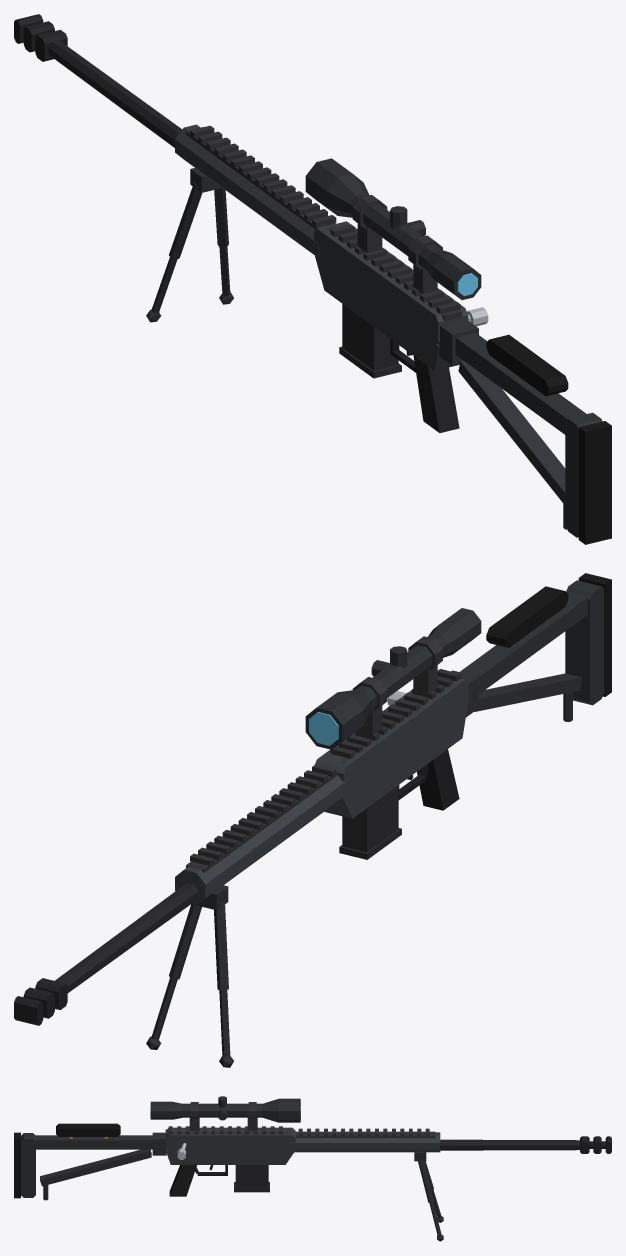
File: Raptor.glb
3 renders of one model, top to bottom at view 1: azimuth 30°, elevation 25°; view 2: azimuth 150°, elevation 25°; view 3: azimuth 270°, elevation 25°, orthographic. The views are drawn at different scales.
Visible parts, largest first — view 1: Stock, Body, Mount, Pad, Scope, Handguard, Bipod, Barrel, Magazine, Grip, Muzzle; view 2: Stock, Body, Mount, Scope, Handguard, Bipod, Pad, Barrel, Magazine, Muzzle, Grip, Lens; view 3: Body, Stock, Scope, Mount, Handguard, Barrel, Pad, Magazine, Bipod, Grip, Muzzle.
Boxes of the visible parts, left/top/right/bottom form: Stock: left=439, top=319, right=602, bottom=537; Body: left=314, top=221, right=468, bottom=370; Mount: left=186, top=125, right=462, bottom=321; Pad: left=486, top=334, right=611, bottom=544; Scope: left=305, top=158, right=481, bottom=299; Handguard: left=175, top=124, right=318, bottom=257; Bipod: left=146, top=168, right=567, bottom=529; Barrel: left=48, top=40, right=181, bottom=147; Magazine: left=339, top=304, right=401, bottom=378; Grip: left=413, top=356, right=459, bottom=432; Muzzle: left=14, top=14, right=67, bottom=61; Stock: left=451, top=580, right=604, bottom=717; Body: left=315, top=678, right=468, bottom=818; Mount: left=186, top=636, right=462, bottom=872; Scope: left=305, top=608, right=481, bottom=749; Handguard: left=175, top=775, right=348, bottom=904; Bipod: left=146, top=692, right=572, bottom=1067; Pad: left=486, top=573, right=611, bottom=696; Barrel: left=55, top=883, right=198, bottom=992; Magazine: left=339, top=785, right=401, bottom=859; Muzzle: left=14, top=978, right=67, bottom=1025; Grip: left=417, top=749, right=459, bottom=810; Lens: left=309, top=712, right=338, bottom=745; Body: left=165, top=1127, right=295, bottom=1164; Stock: left=21, top=1132, right=166, bottom=1197; Scope: left=150, top=1096, right=300, bottom=1122; Mount: left=165, top=1102, right=435, bottom=1137; Handguard: left=290, top=1132, right=440, bottom=1152; Barrel: left=440, top=1139, right=579, bottom=1150; Pad: left=14, top=1123, right=120, bottom=1198; Magazine: left=234, top=1165, right=269, bottom=1192; Bipod: left=43, top=1151, right=443, bottom=1241; Grip: left=169, top=1165, right=196, bottom=1196; Muzzle: left=580, top=1136, right=611, bottom=1153.
Size of the model in its own units: 0.534 by 1.47 by 5.99.
